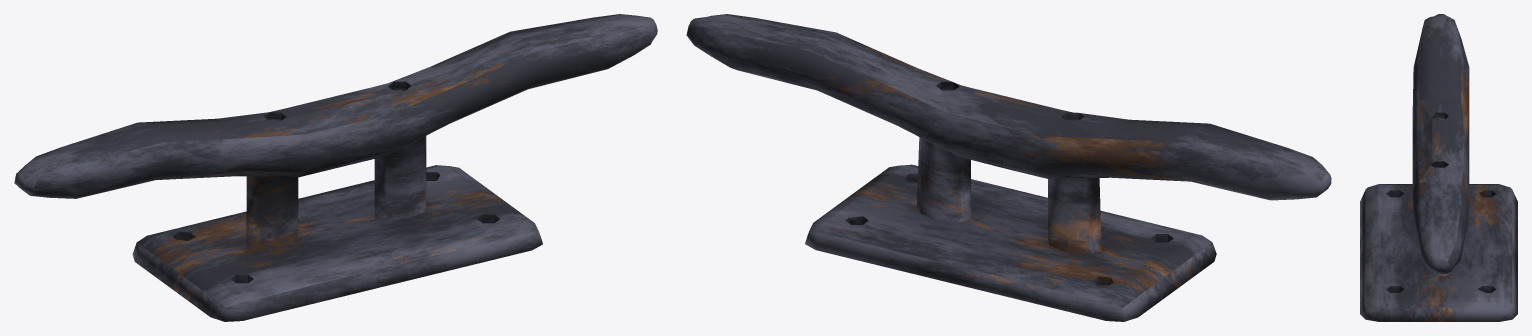
The model's file is cleat.glb.
The picture shows the model from 3 angles, left to right: view 1: azimuth 30°, elevation 25°; view 2: azimuth 150°, elevation 25°; view 3: azimuth 270°, elevation 25°; orthographic projection. The views are drawn at different scales.
Parts seen in each view (by area): view 1: Object_2; view 2: Object_2; view 3: Object_2.
Boxes of the visible parts, bbox=[...] form: Object_2: bbox=[14, 14, 657, 321]; Object_2: bbox=[686, 14, 1331, 321]; Object_2: bbox=[1360, 14, 1517, 321].
Bounding box in the file's own units: 6.22 × 1.53 × 1.67.
1 material, 1 textured.
